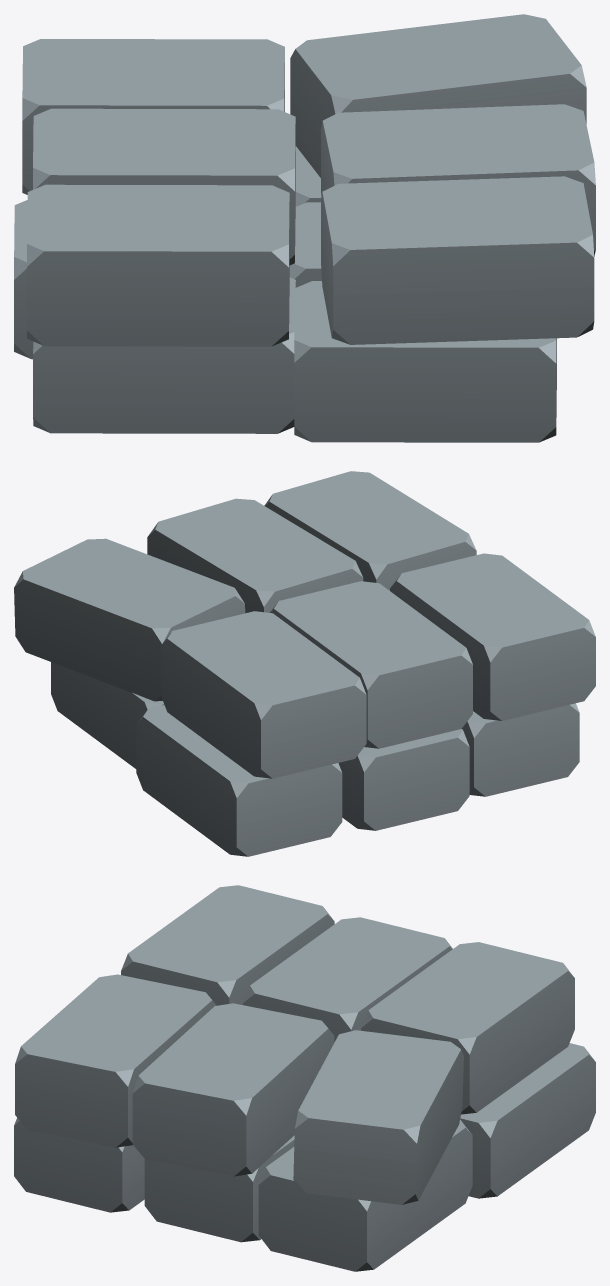
Rendered from Pedra refinada A.fbx.
The picture shows the model from 3 angles, top to bottom: view 1: azimuth 30°, elevation 25°; view 2: azimuth 150°, elevation 25°; view 3: azimuth 270°, elevation 25°; orthographic projection. The views are drawn at different scales.
Visible parts, largest first — view 1: Pedra refinada A; view 2: Pedra refinada A; view 3: Pedra refinada A.
Part boxes in pixels (left/top/right/bottom): Pedra refinada A: left=14, top=14, right=595, bottom=442; Pedra refinada A: left=14, top=471, right=595, bottom=856; Pedra refinada A: left=14, top=885, right=595, bottom=1271.
Size of the model in its own units: 306 by 89.65 by 306.
